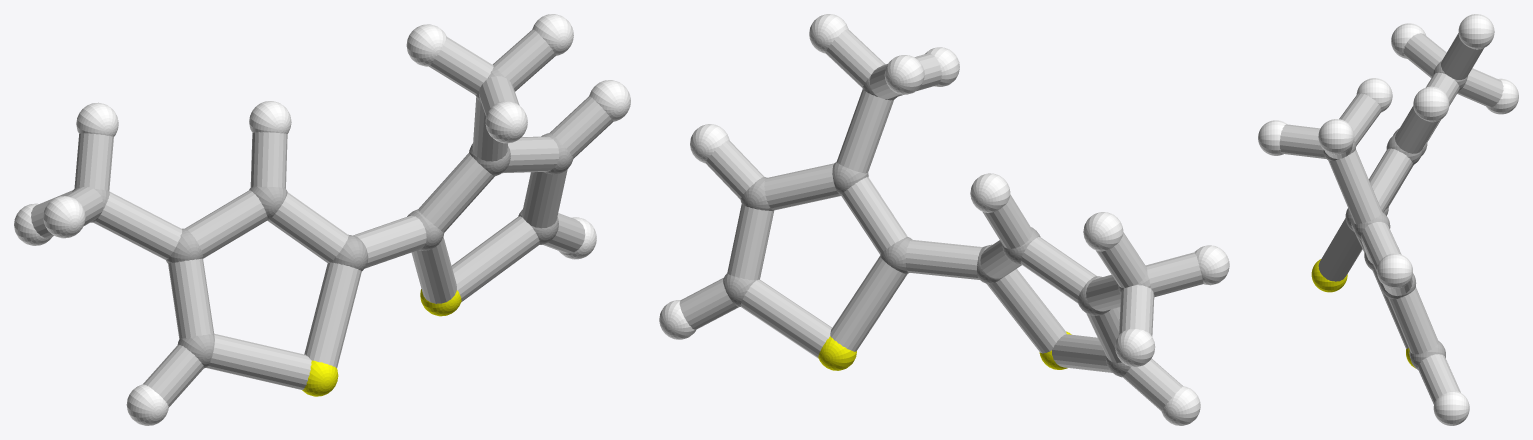
The model's file is Methylthiophene_Phi_25_Theta_230_Methylthiophene.glb.
3 renders of one model, left to right at view 1: azimuth 30°, elevation 25°; view 2: azimuth 150°, elevation 25°; view 3: azimuth 270°, elevation 25°, orthographic. The views are drawn at different scales.
Visible parts, largest first — view 1: grp7965, grp3621, grp1, grp7241; view 2: grp7965, grp3621, grp1, grp7241; view 3: grp7965, grp3621, grp1, grp7241.
Boxes of the visible parts, left/top/right/bottom form: grp7965: left=31, top=29, right=613, bottom=407; grp3621: left=14, top=14, right=630, bottom=425; grp1: left=72, top=66, right=573, bottom=368; grp7241: left=302, top=289, right=461, bottom=396; grp7965: left=679, top=29, right=1203, bottom=410; grp3621: left=659, top=14, right=1229, bottom=425; grp1: left=723, top=64, right=1151, bottom=377; grp7241: left=818, top=331, right=1071, bottom=370; grp7965: left=1279, top=33, right=1503, bottom=404; grp3621: left=1258, top=14, right=1518, bottom=425; grp1: left=1323, top=60, right=1467, bottom=369; grp7241: left=1311, top=259, right=1415, bottom=368.
Size of the model in its own units: 9.36 by 5.07 by 4.34.
